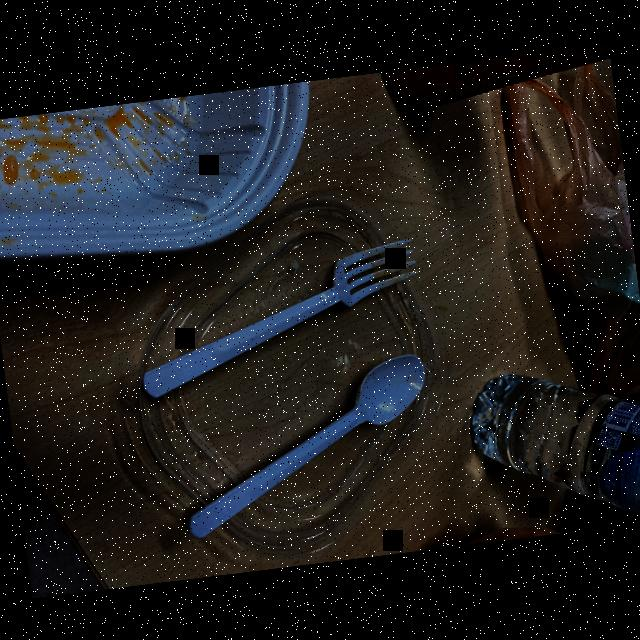plastic_cultery: (165, 342, 445, 530), (128, 230, 428, 396)
